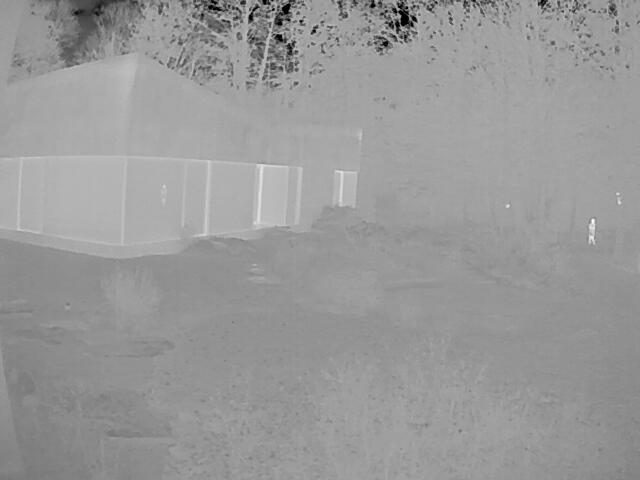person: (585, 216, 596, 244), (157, 182, 167, 204)
